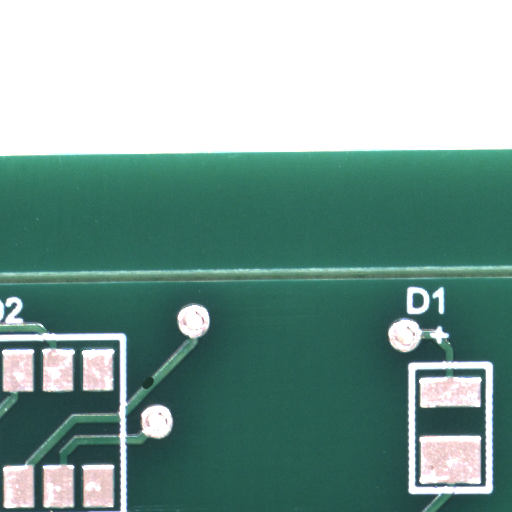Mouse_bite: (147, 383, 159, 396)
